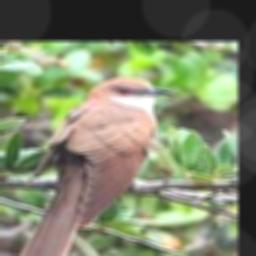Cuckoo: (14, 77, 172, 256)
